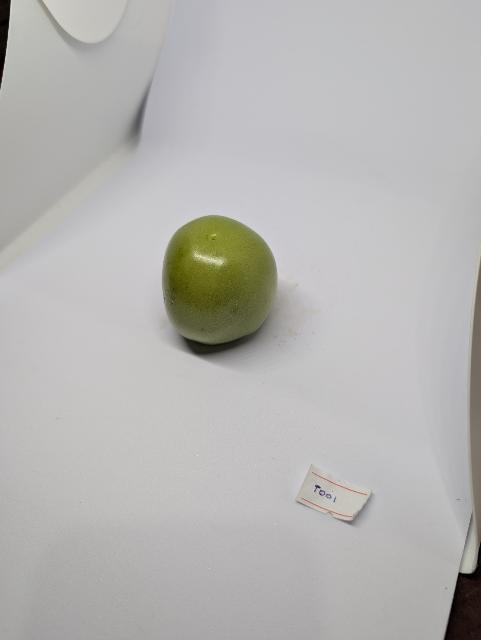green: (160, 215, 280, 346)
